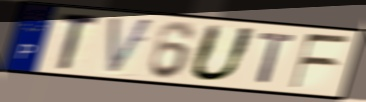6: (147, 19, 197, 81)
F: (289, 32, 353, 90)
T: (56, 13, 103, 71), (257, 31, 299, 85)
U: (186, 22, 260, 84)
V: (106, 15, 156, 77)
